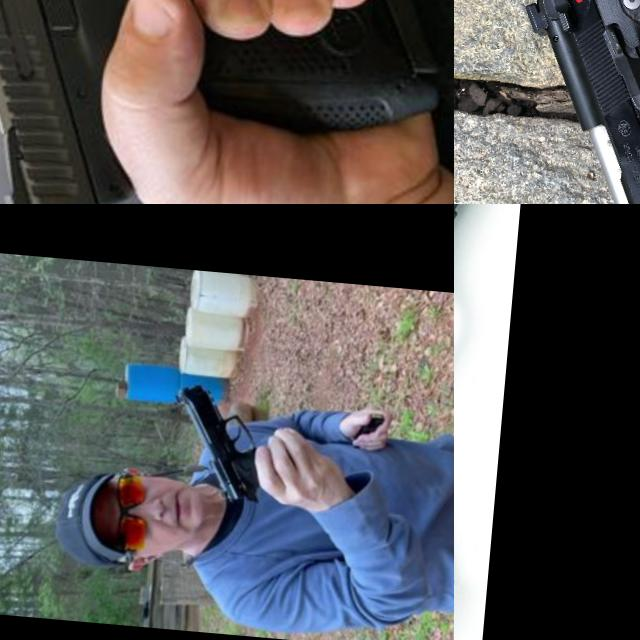handgun: (0, 0, 454, 204), (454, 204, 630, 640), (489, 0, 640, 204), (162, 377, 272, 508)
